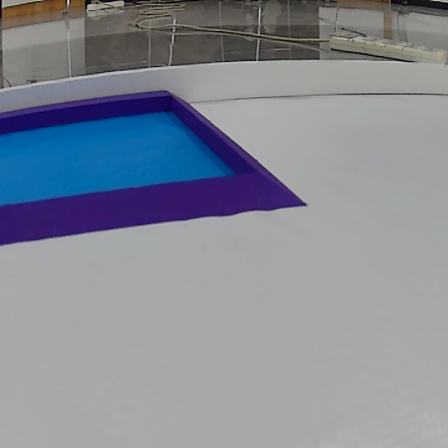blue_aim: (0, 88, 309, 246)
